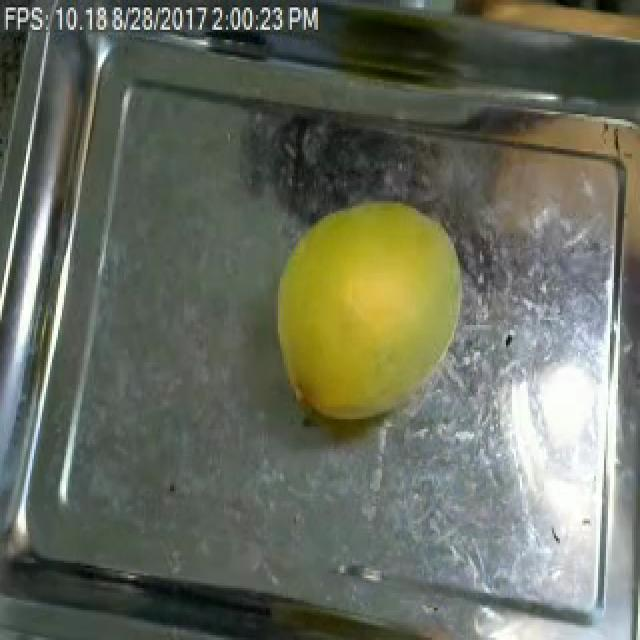fruit: (250, 176, 482, 442), (458, 0, 640, 69)
